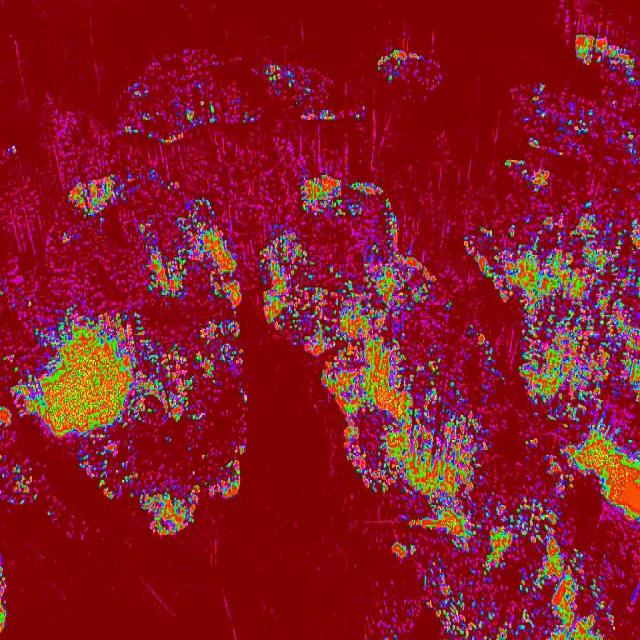fire: (0, 173, 246, 532), (259, 176, 640, 358), (317, 357, 640, 517), (385, 516, 640, 640), (122, 48, 257, 148), (508, 85, 640, 176), (268, 61, 370, 130), (573, 29, 640, 93), (372, 44, 450, 96)
